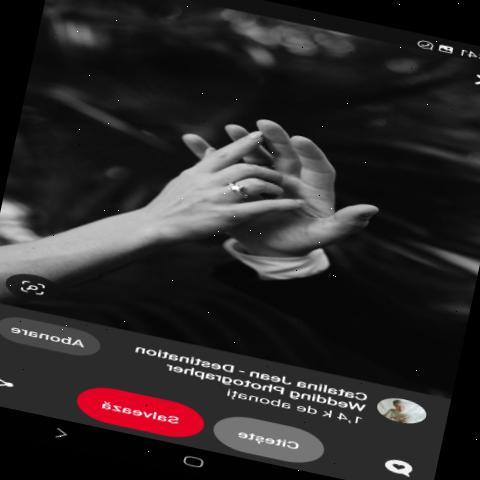Hands: (180, 81, 372, 285), (114, 126, 295, 264)
